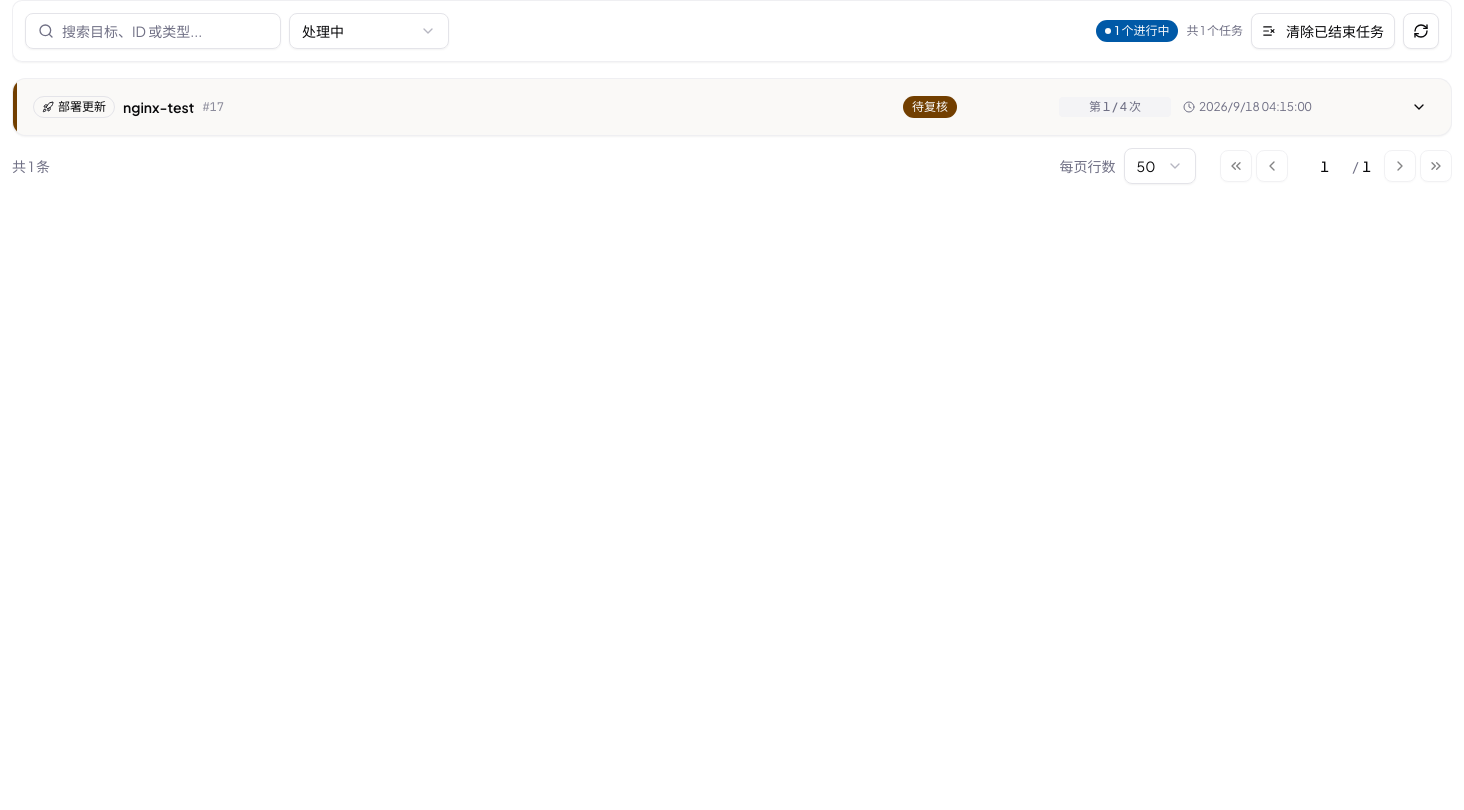
Scenario: persistent task queue › explains version-limited deployment approval
The image size is (1464, 810).
Expected: the text "nginx-test" is shown, top-left (123, 97), bottom-right (194, 117)
Click the button named "任务 #17 详情" at (1419, 107), box top-left (1403, 91), bottom-right (1435, 123)
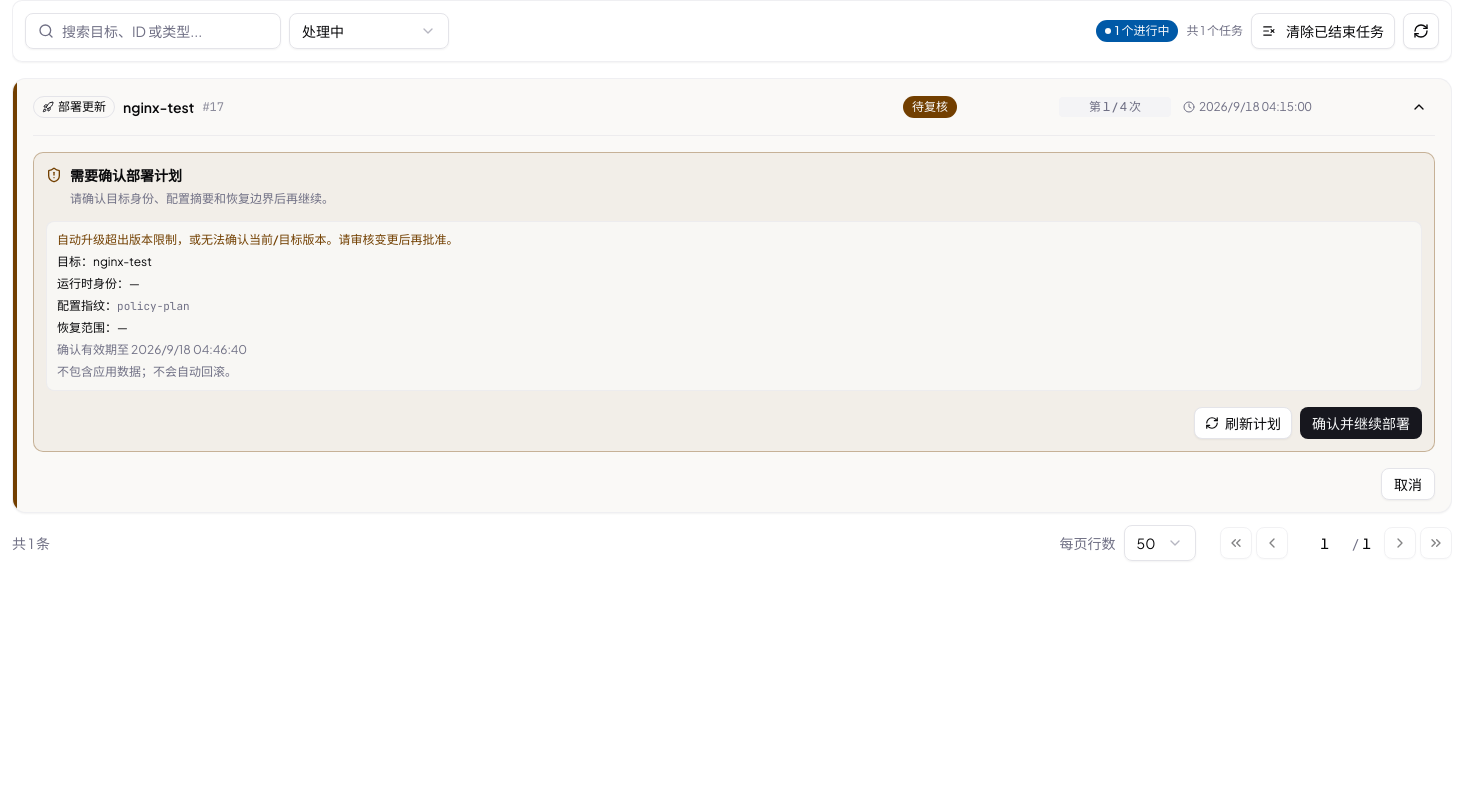
Result: the text "自动升级超出版本限制，或无法确认当前/目标版本。请审核变更后再批准。" is shown at top-left (57, 232), bottom-right (458, 246)
